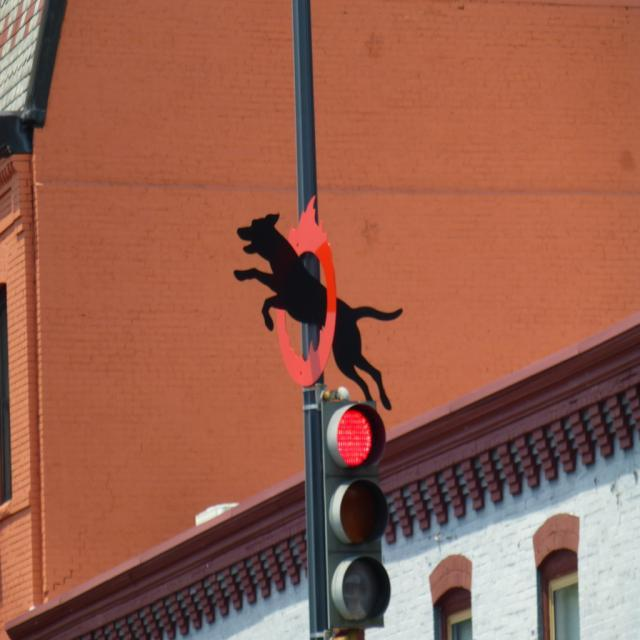traffic light: (320, 396, 392, 628)
